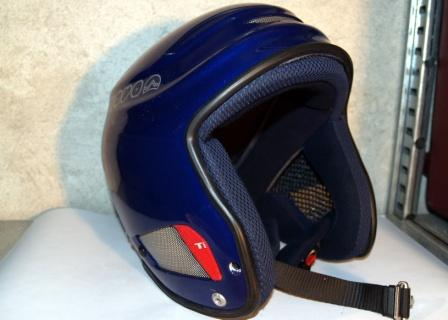helmet: (82, 23, 306, 312)
